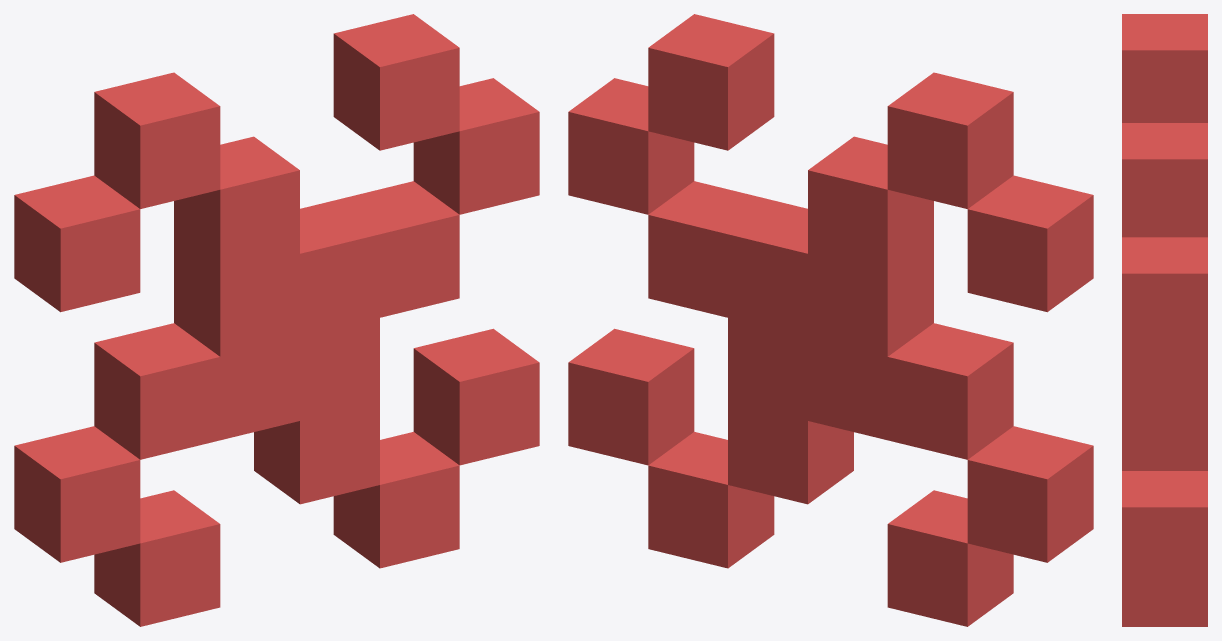
File: Fireball-Small-Pink.vox.obj
3 views of the same model, side by side, from view 1: azimuth 30°, elevation 25°; view 2: azimuth 150°, elevation 25°; view 3: azimuth 270°, elevation 25° (orthographic). The views are drawn at different scales.
Bounding box in the file's own units: 0.6 × 0.6 × 0.1.
1 material, 1 textured.
